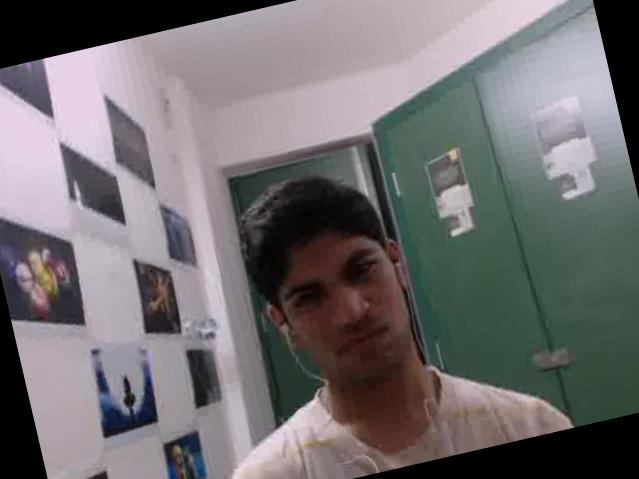bingung: (258, 216, 418, 395)
